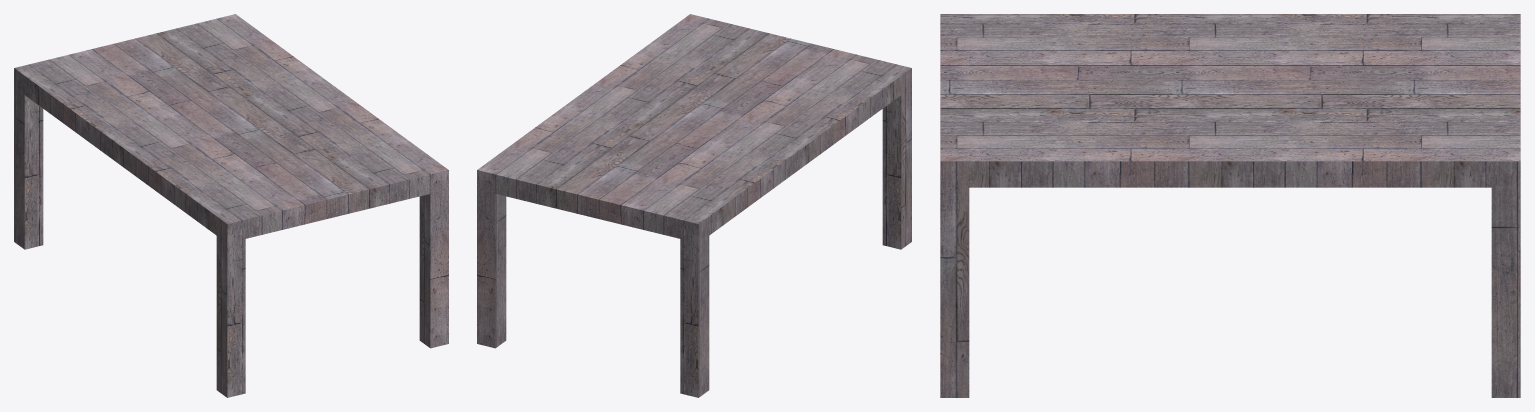
Rendered from Table.dae.
3 renders of one model, left to right at view 1: azimuth 30°, elevation 25°; view 2: azimuth 150°, elevation 25°; view 3: azimuth 270°, elevation 25°, orthographic. The views are drawn at different scales.
Parts seen in each view (by area): view 1: Table-col; view 2: Table-col; view 3: Table-col.
Boxes of the visible parts, x1,y1,x2,y2 form: Table-col: (14,14,448,397); Table-col: (477,14,911,397); Table-col: (940,14,1520,397).
Size of the model in its own units: 3 by 5 by 2.25.
Materials: 1 (1 with a texture image).
